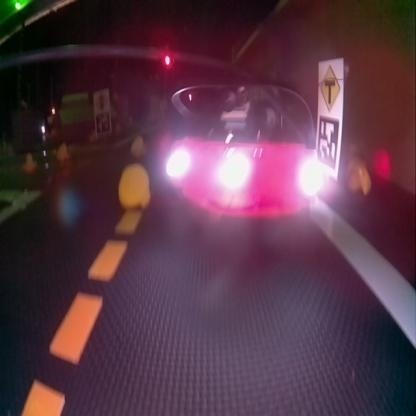Duckie: (119, 165, 148, 208), (22, 152, 36, 170), (56, 142, 68, 161)
Duckiebot: (166, 87, 323, 219)
Intersection sign: (318, 63, 340, 109)
QR code: (315, 113, 341, 170), (95, 110, 109, 134)
Signal sign: (94, 90, 107, 110)
Traffic light: (162, 51, 173, 68)
